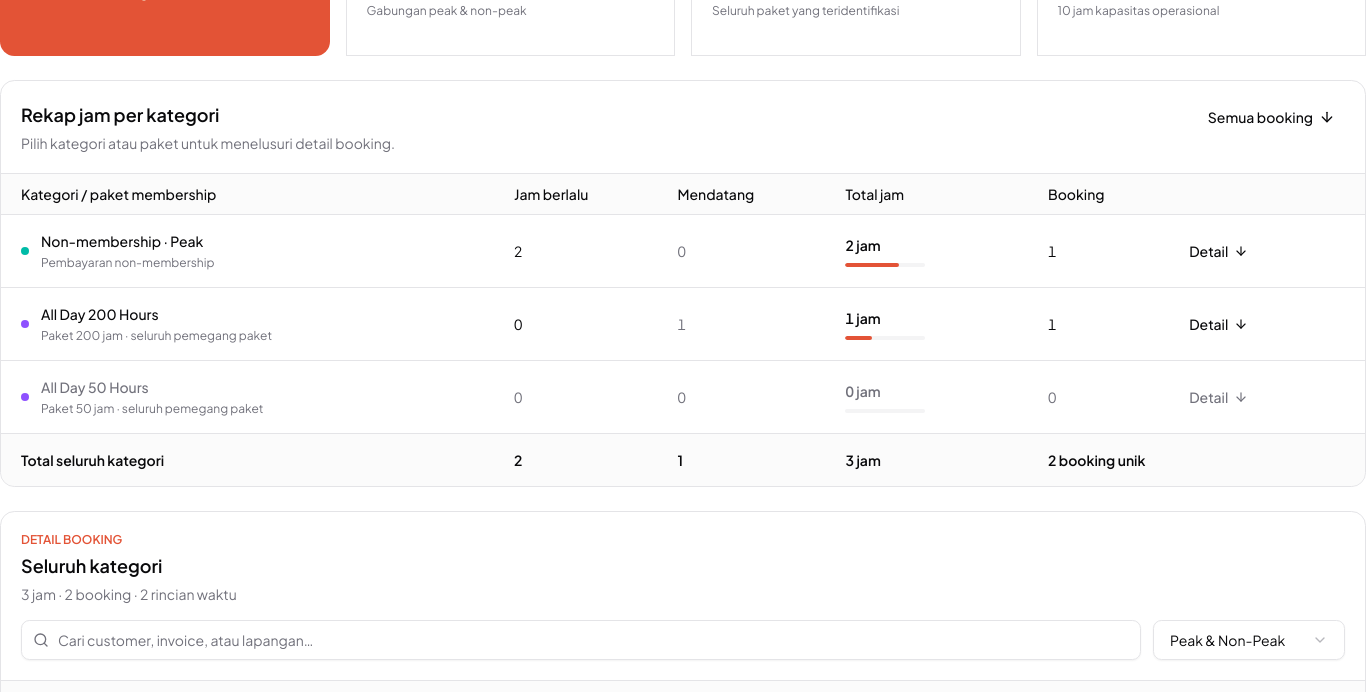
Court Performance UI › opens package details including zero-use packages, and resets to all bookings
(page scrolled)
Click the button with aria-label "Lihat detail All Day 200 Hours". click: point(1219, 324)
box: [1179,308,1258,340]
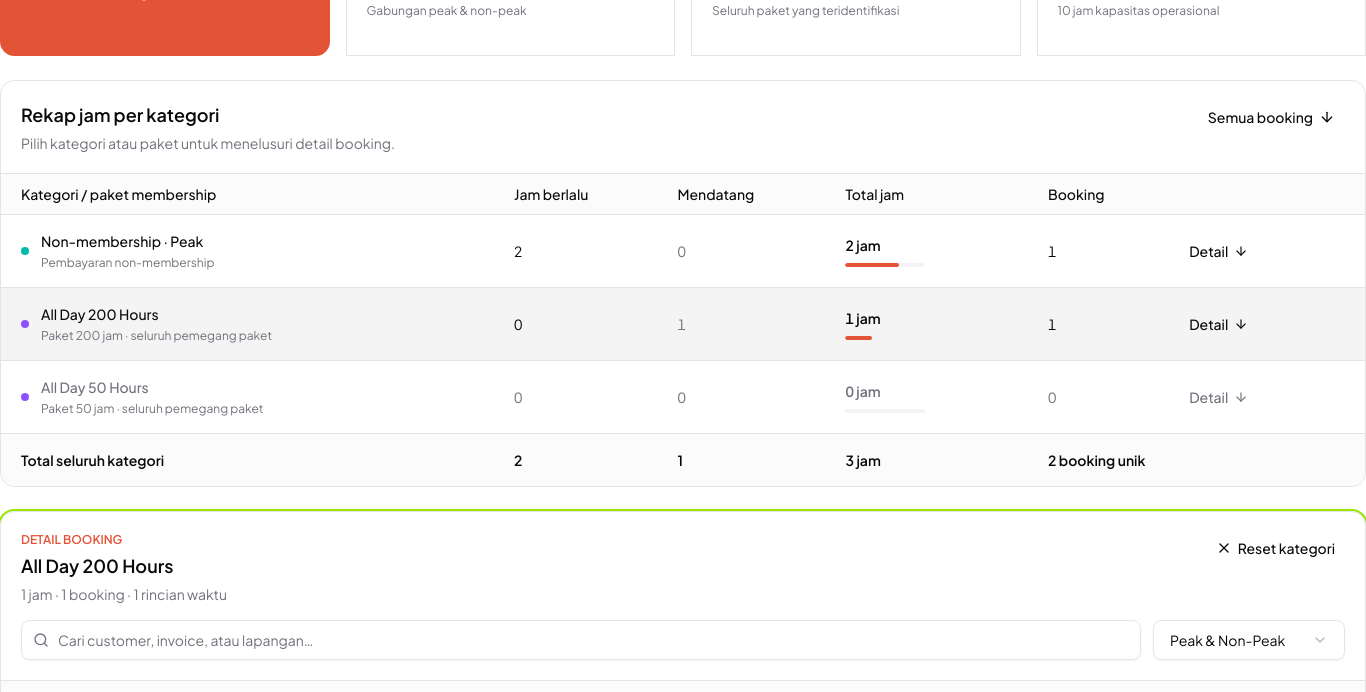
Click the button with aria-label "Lihat detail All Day 50 Hours". click: point(1219, 396)
box: [1179,380,1258,412]
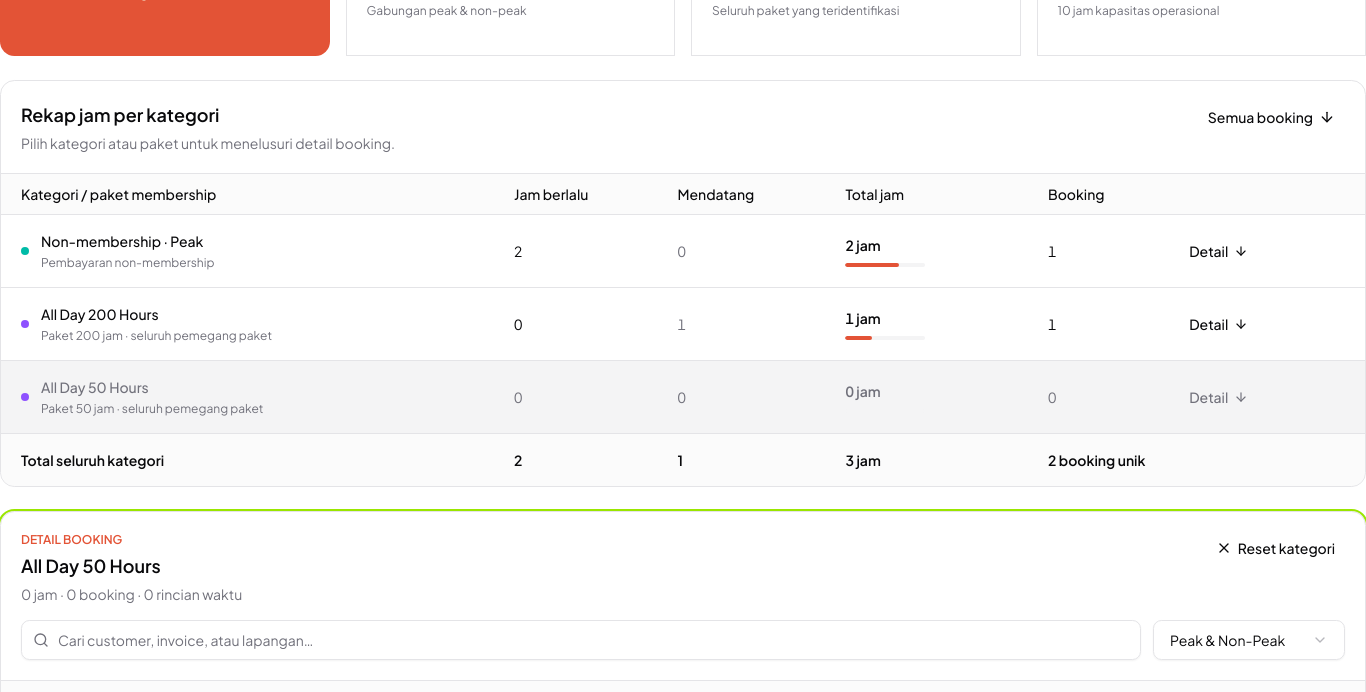
Click the button "Reset kategori". click: point(1275, 548)
box: [1206,532,1345,564]
(page scrolled)
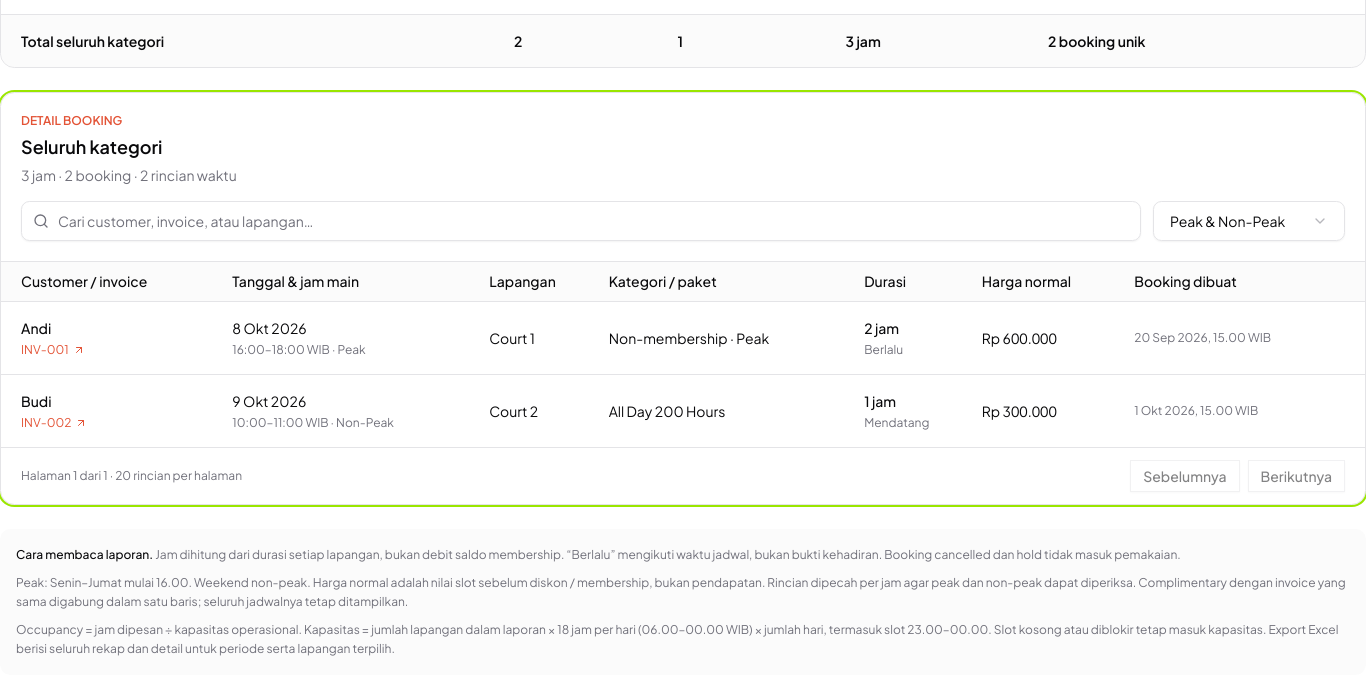
expect the text "Andi" is shown: met, box [21,319,51,337]
